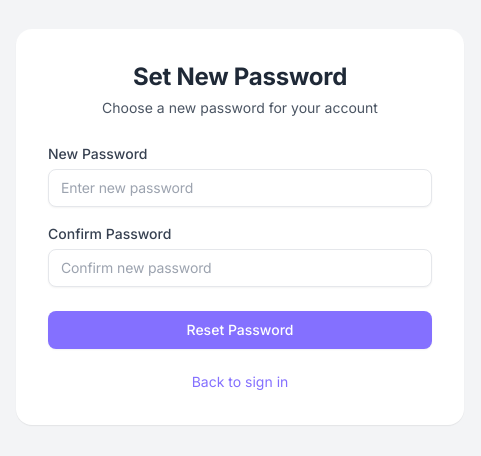
Scenario: ResetPasswordView › shows password mismatch warning
In the password field with id "reset-password": (240, 188) x1=48 y1=169 x2=432 y2=207, type "password1"
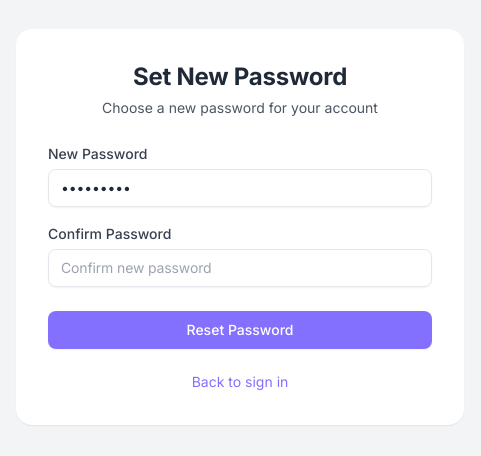
In the password field with id "reset-confirm": (240, 268) x1=48 y1=249 x2=432 y2=287, type "password2"
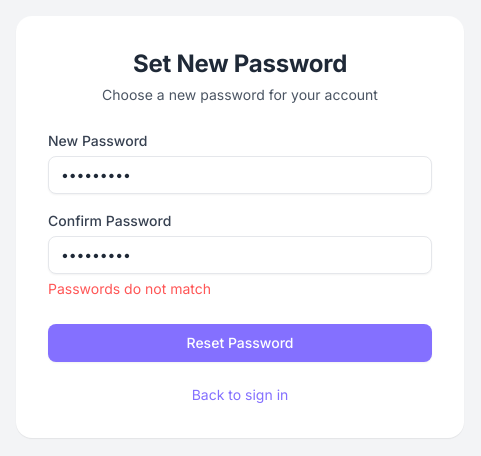
Result: the text "Passwords do not match" is shown at x1=48 y1=280 x2=211 y2=297
